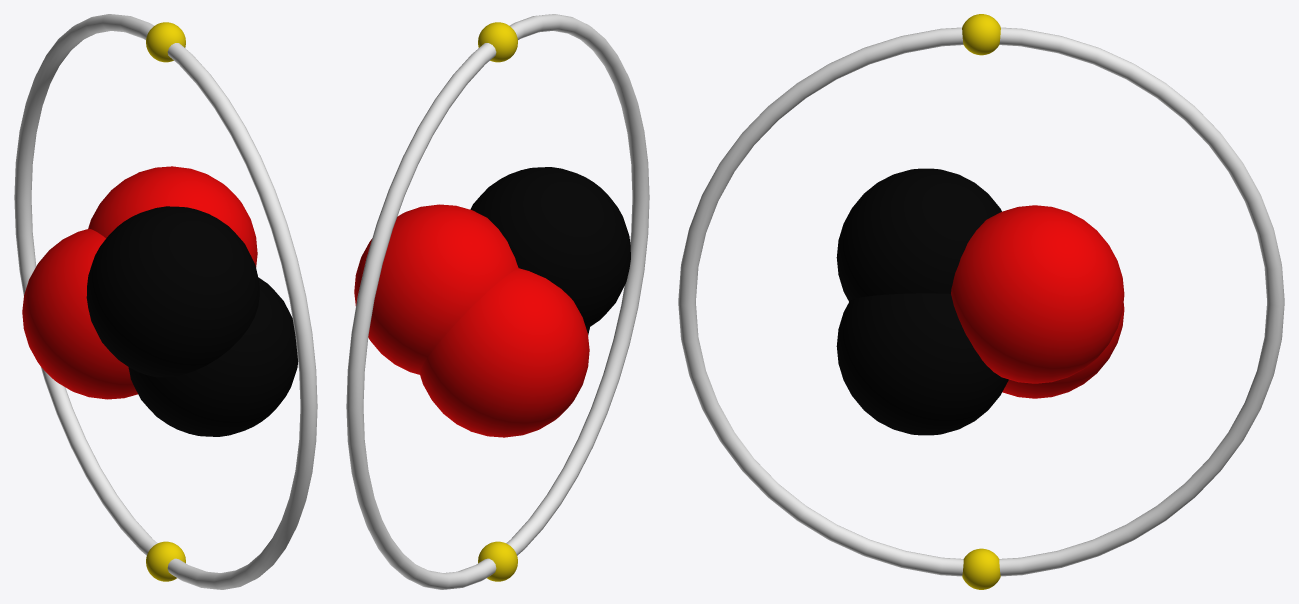
File: Helium.fbx
3 views of the same model, side by side, from view 1: azimuth 30°, elevation 25°; view 2: azimuth 150°, elevation 25°; view 3: azimuth 270°, elevation 25° (orthographic). The views are drawn at different scales.
Visible parts, largest first — view 1: Proton.001, Orbit, Proton, Neutron 2, Neutron, Electron, Electron 2; view 2: Orbit, Neutron 2, Neutron, Proton.001, Electron, Electron 2; view 3: Orbit, Neutron, Proton, Proton.001, Neutron 2, Electron, Electron 2.
Part boxes in pixels (<box>): Proton.001: <box>86,206,259,377</box>; Orbit: <box>14,14,317,589</box>; Proton: <box>128,277,297,436</box>; Neutron 2: <box>22,229,137,399</box>; Neutron: <box>88,166,257,267</box>; Electron: <box>146,22,185,62</box>; Electron 2: <box>146,541,185,581</box>; Orbit: <box>346,14,649,589</box>; Neutron 2: <box>419,268,589,437</box>; Neutron: <box>354,204,518,374</box>; Proton.001: <box>470,167,630,328</box>; Electron: <box>478,22,517,62</box>; Electron 2: <box>478,541,517,581</box>; Orbit: <box>678,27,1284,576</box>; Neutron: <box>951,205,1124,383</box>; Proton: <box>836,293,1008,435</box>; Proton.001: <box>836,168,1001,301</box>; Neutron 2: <box>1002,303,1124,398</box>; Electron: <box>962,14,1000,55</box>; Electron 2: <box>962,548,1000,589</box>.
Bounding box in the file's own units: 282 × 707 × 679.
